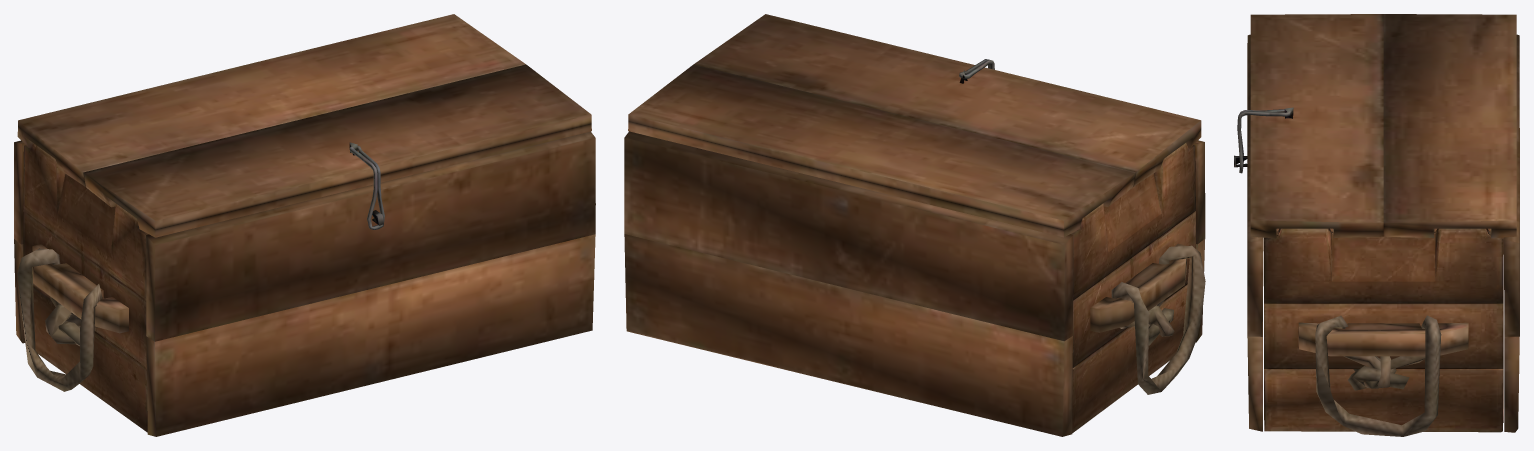
Rendered from g_crate_w.glb.
3 views of the same model, side by side, from view 1: azimuth 30°, elevation 25°; view 2: azimuth 150°, elevation 25°; view 3: azimuth 270°, elevation 25° (orthographic). The views are drawn at different scales.
Parts seen in each view (by area): view 1: wooden_crate_01_lid; view 2: wooden_crate_01_lid; view 3: wooden_crate_01_lid.
Part boxes in pixels (bbox=[...]): wooden_crate_01_lid: bbox=[14, 14, 595, 436]; wooden_crate_01_lid: bbox=[624, 14, 1205, 436]; wooden_crate_01_lid: bbox=[1234, 14, 1519, 436].
Size of the model in its own units: 0.8245 by 0.3469 by 0.4042.
1 material, 1 textured.
